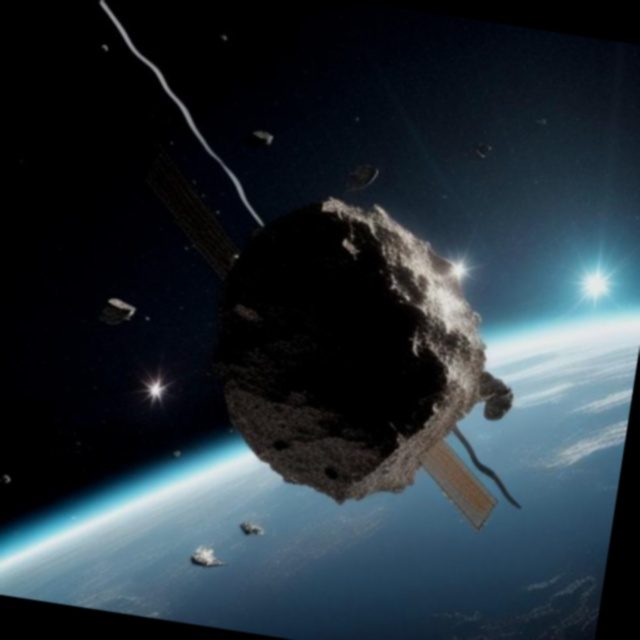large_debris: (92, 267, 153, 343), (126, 370, 185, 413), (252, 105, 290, 165), (187, 525, 223, 587)
medium_debris: (0, 0, 606, 626)
